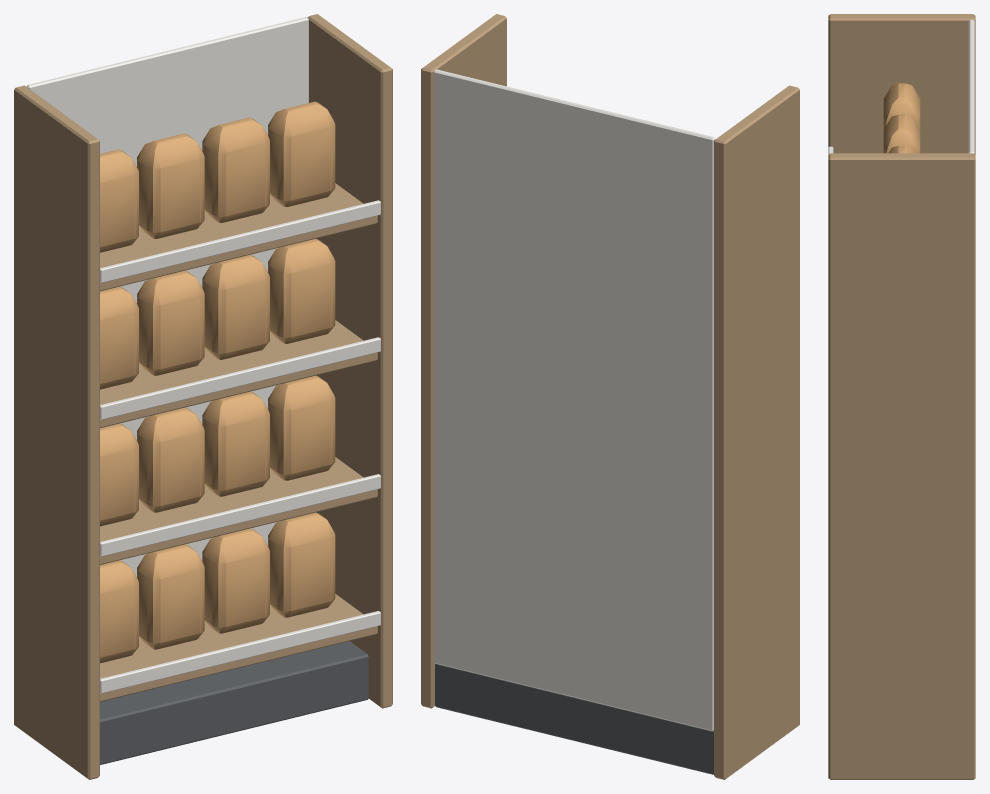
File: bakery-and-cafe-bagged-goods-rack-1e9f5db9__22170.glb
3 views of the same model, side by side, from view 1: azimuth 30°, elevation 25°; view 2: azimuth 150°, elevation 25°; view 3: azimuth 270°, elevation 25° (orthographic). The views are drawn at different scales.
Visible parts, largest first — view 1: bagged-goods-rack; view 2: bagged-goods-rack; view 3: bagged-goods-rack.
Boxes of the visible parts, x1,y1,x2,y2 form: bagged-goods-rack: (14,14,392,779); bagged-goods-rack: (421,14,799,779); bagged-goods-rack: (828,14,975,779).
Bounding box in the file's own units: 0.7001 × 1.4 × 0.3.
